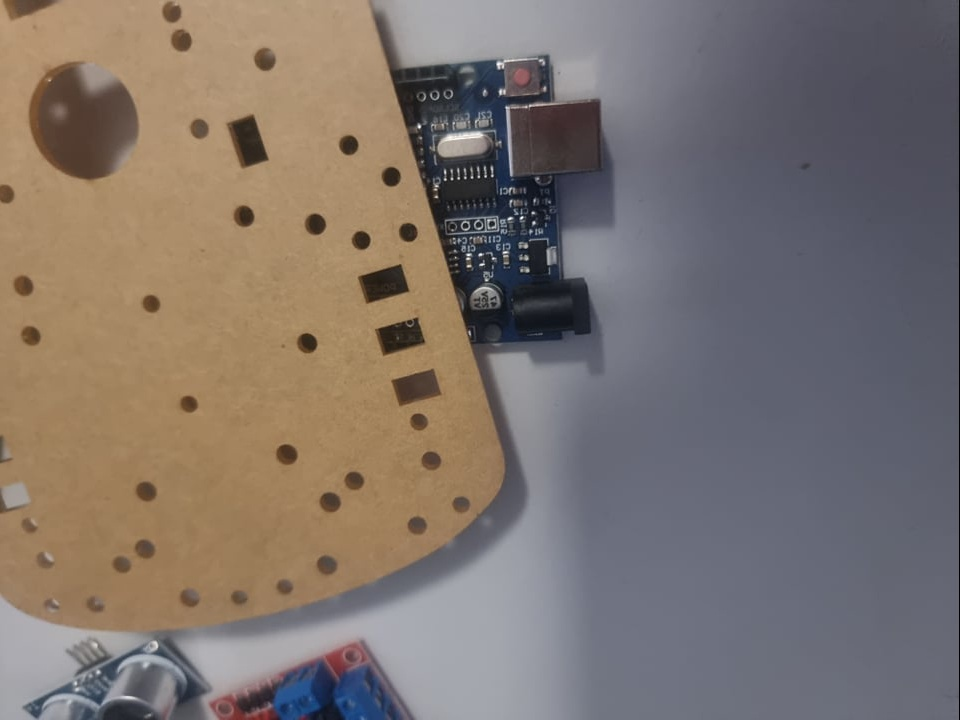UNO R3: (388, 53, 602, 356)
